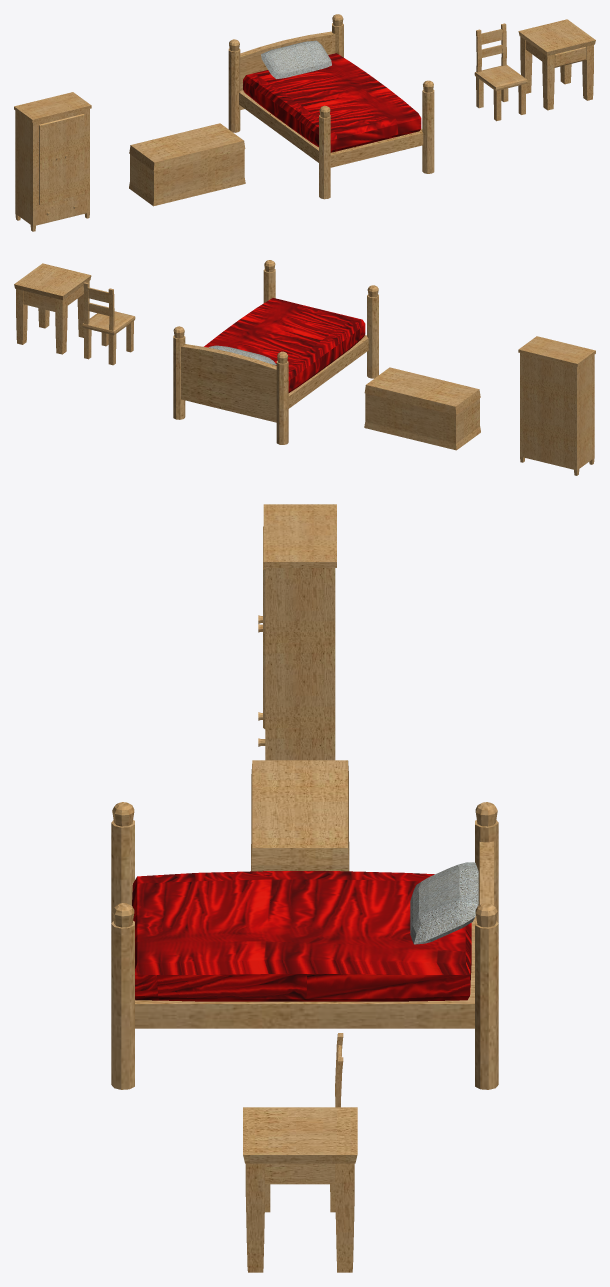
The model's file is farm_room_props.glb.
The picture shows the model from 3 angles, top to bottom: view 1: azimuth 30°, elevation 25°; view 2: azimuth 150°, elevation 25°; view 3: azimuth 270°, elevation 25°; orthographic projection. The views are drawn at different scales.
Visible parts, largest first — view 1: bed, closet, chest, mesita, chair; view 2: bed, closet, chest, mesita, chair; view 3: bed, closet, mesita, chest.
Part boxes in pixels (bbox=[...]): bed: bbox=[228, 14, 434, 199]; closet: bbox=[14, 92, 91, 231]; chest: bbox=[129, 123, 245, 206]; mesita: bbox=[518, 19, 595, 110]; chair: bbox=[474, 23, 527, 121]; bed: bbox=[173, 260, 378, 444]; closet: bbox=[518, 336, 595, 475]; chest: bbox=[364, 367, 480, 450]; mesita: bbox=[14, 263, 91, 354]; chair: bbox=[82, 282, 135, 365]; bed: bbox=[111, 802, 498, 1089]; closet: bbox=[258, 504, 336, 760]; mesita: bbox=[243, 1107, 357, 1272]; chest: bbox=[251, 760, 349, 871].
Size of the model in its own units: 9.88 by 1.93 by 2.97.
4 materials, 4 textured.
